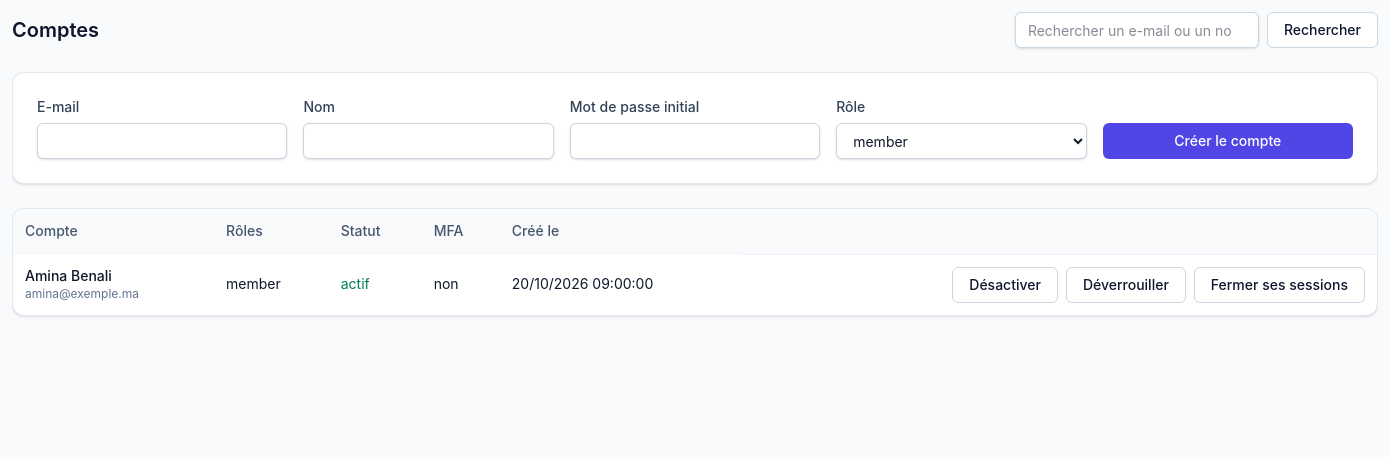
it: UsersView › creates an account and explains a refused password
Type "youssef@exemple.ma" into the field labelled "E-mail" at (162, 141), box [37,123,287,159]
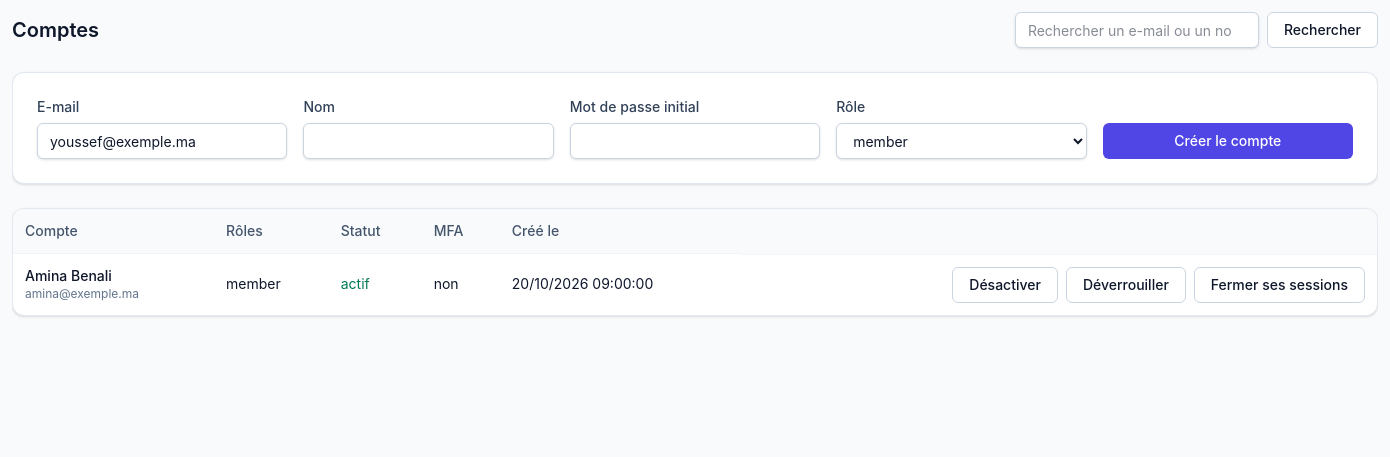
Type "Youssef Alaoui" into the field labelled "Nom" at (429, 141), box [303,123,554,159]
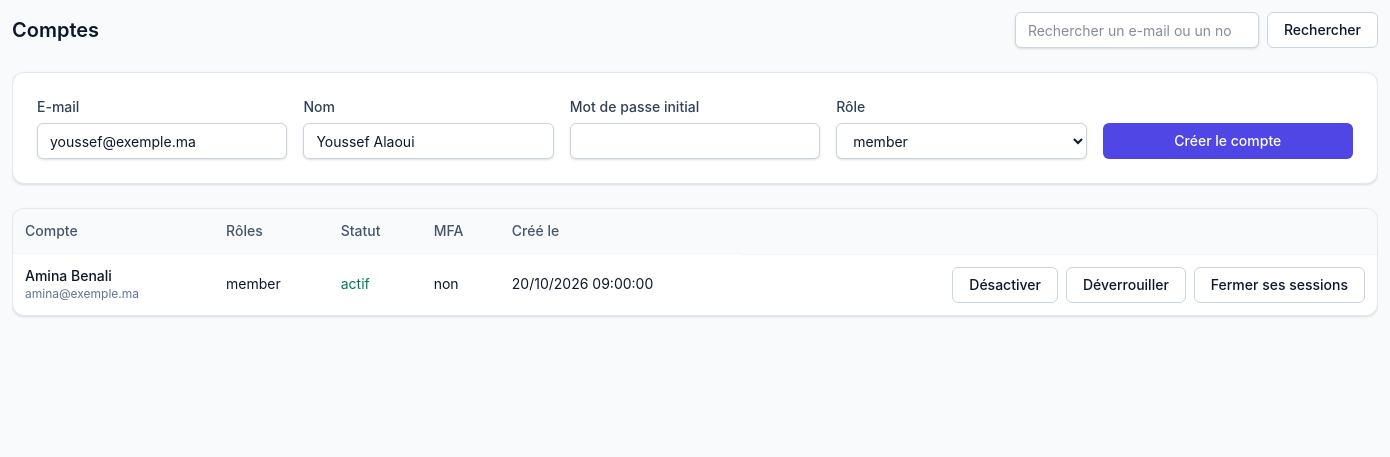
Type "le thé à la menthe" into the password field labelled "Mot de passe initial" at (695, 141), box [570,123,820,159]
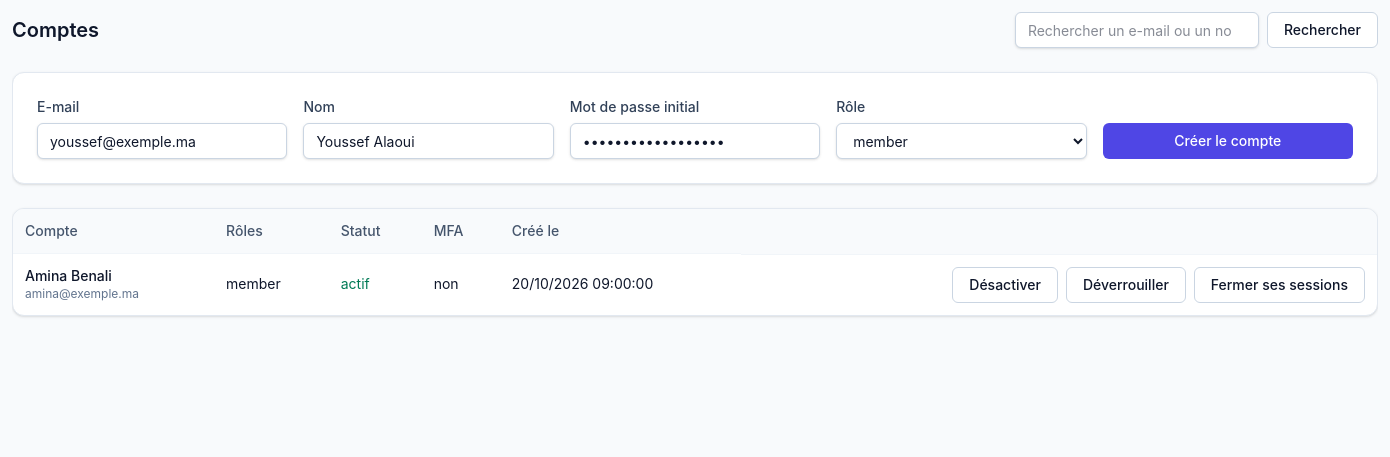
Submit the form "E-mail Nom Mot de passe initial Rôle Créer le compte", box [12,72,1378,184]
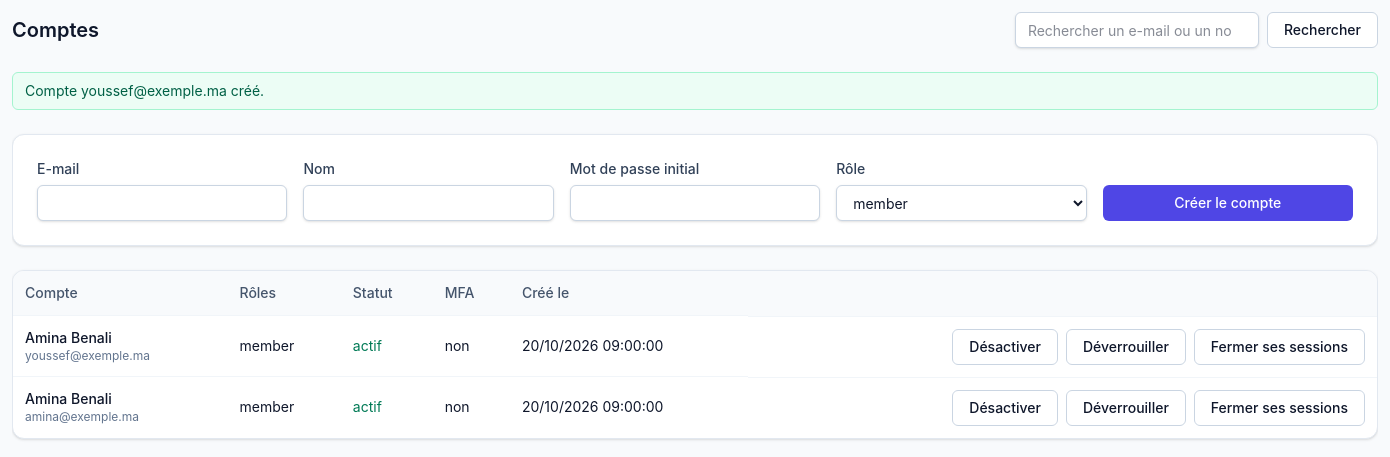
Result: the text "Compte youssef@exemple.ma créé." is shown at [12,72,1378,110]
Submit the form "E-mail Nom Mot de passe initial Rôle Créer le compte", box [12,134,1378,246]
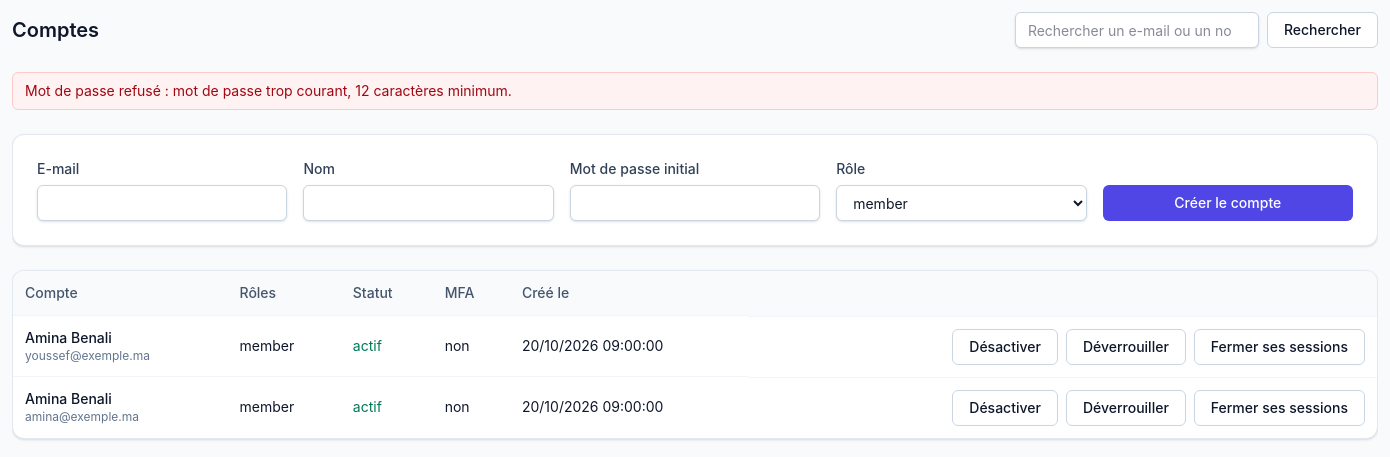
Result: the message "Mot de passe refusé : mot de passe trop courant, 12 caractères minimum." is shown at [12,72,1378,110]
